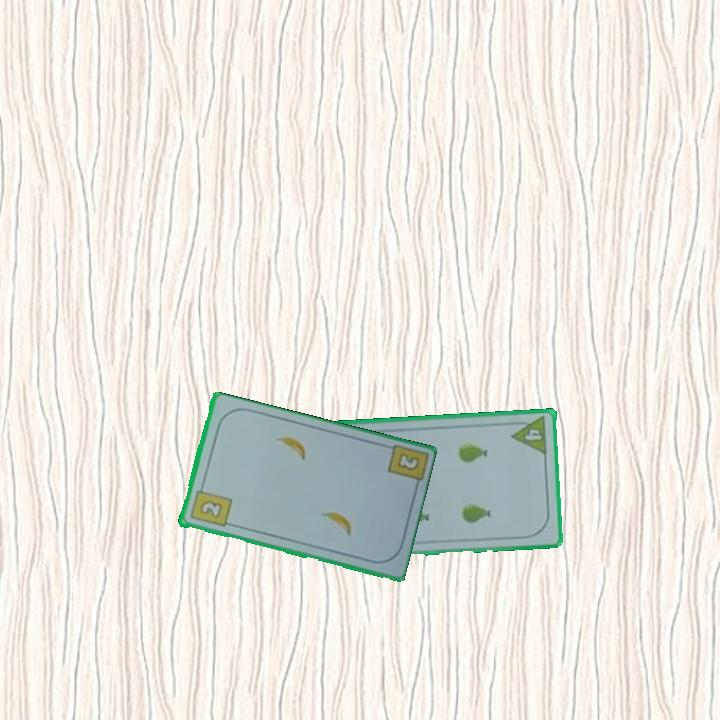2b: (186, 481, 234, 530), (393, 450, 422, 474)
4p: (508, 413, 550, 457)
